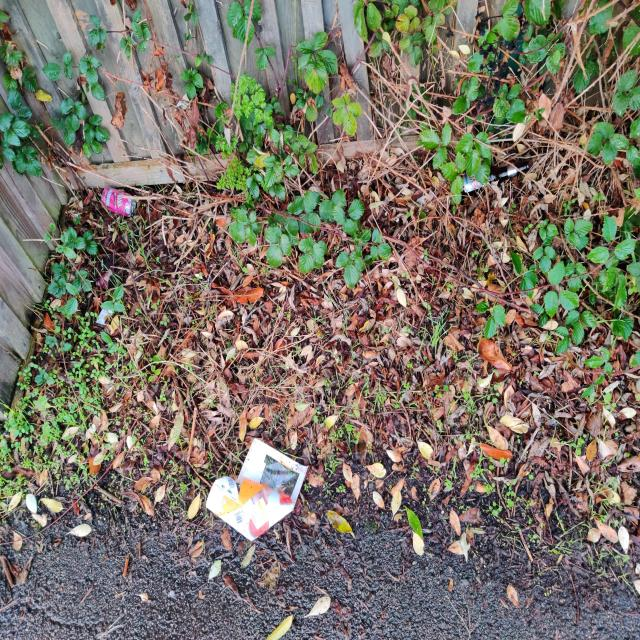litter: (205, 438, 309, 543), (101, 187, 135, 218)
